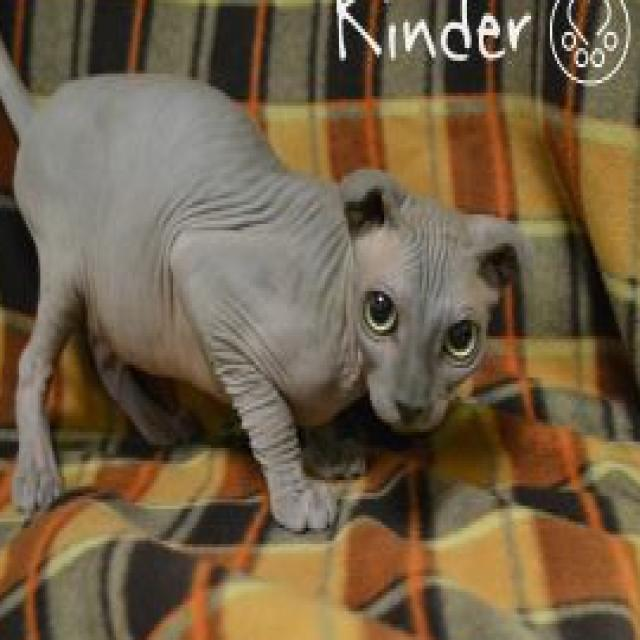Sphynx: (0, 0, 531, 541)
